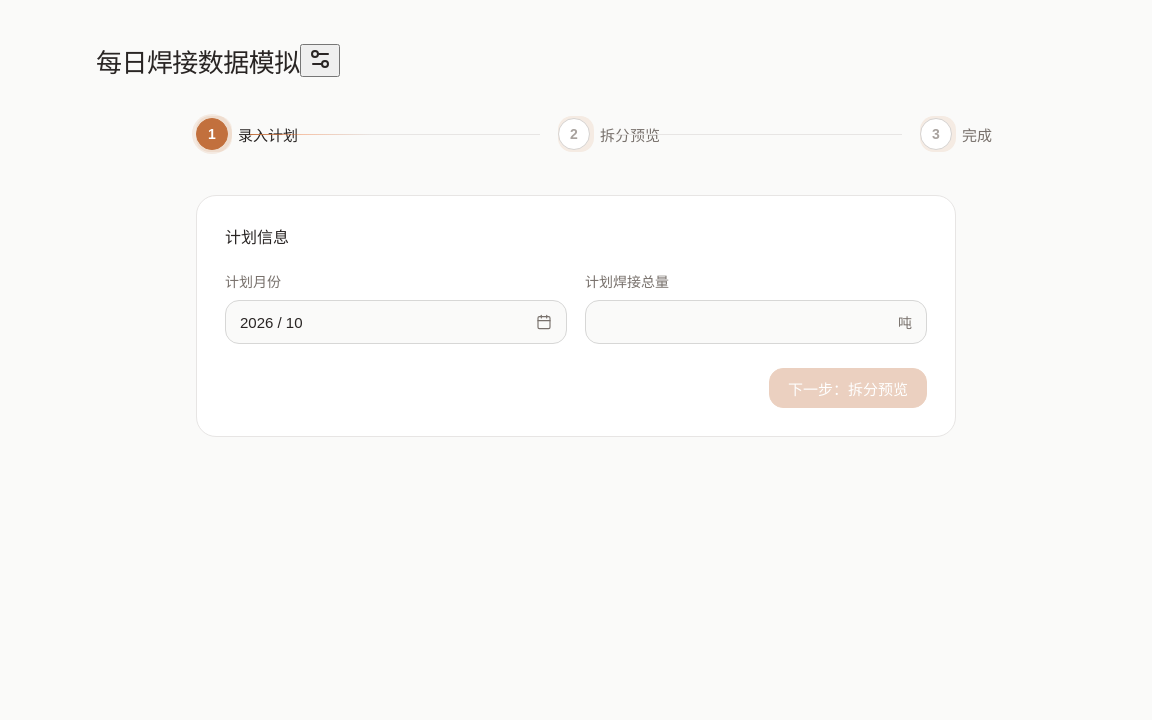
daily weld workflow › hides the business level for a flat local database provider
Click the button named "焊接设置": x=320, y=60 [300,44,340,77]
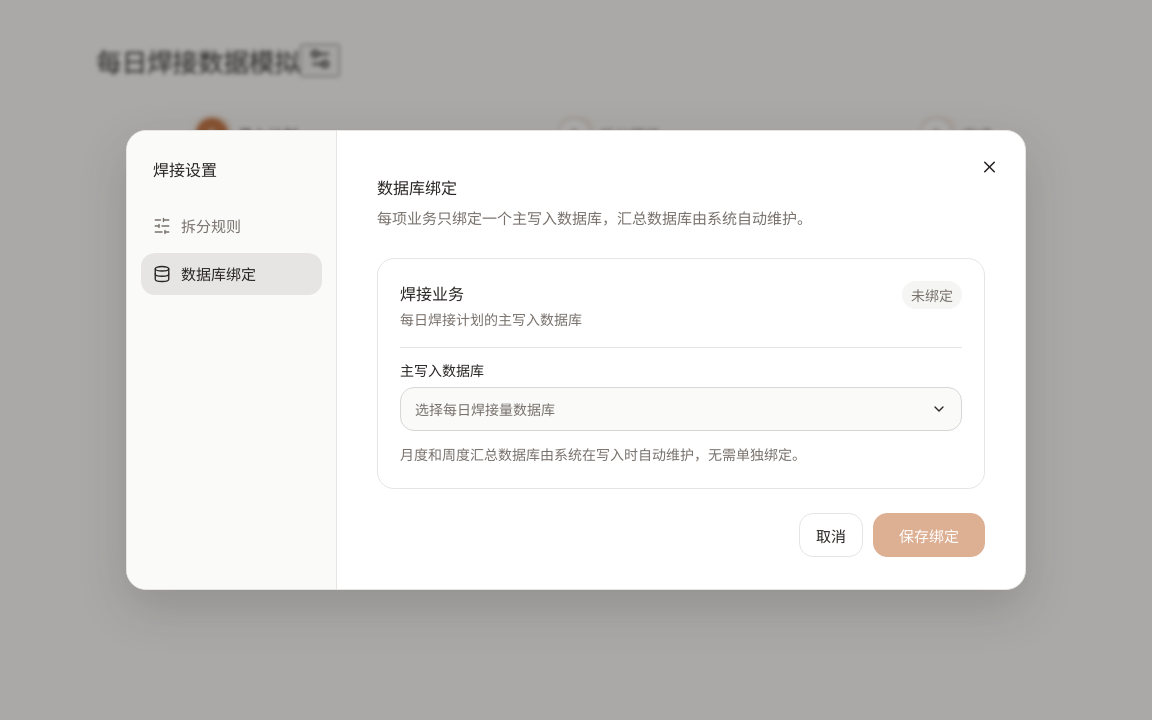
Expected: the button with aria-label "焊接业务主写入数据库" is shown, [400,387,962,431]
